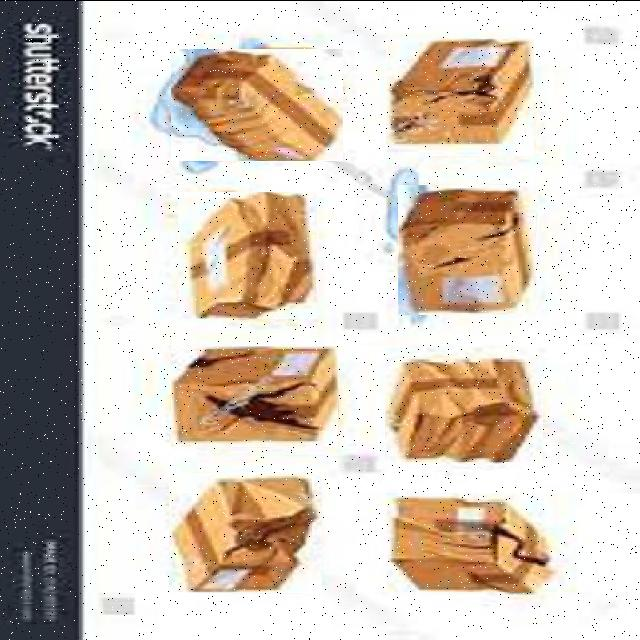defect: (171, 48, 343, 160), (386, 494, 562, 600), (169, 472, 322, 592), (398, 184, 536, 314), (385, 357, 543, 469), (178, 191, 317, 318), (386, 37, 534, 155), (171, 345, 338, 446)
